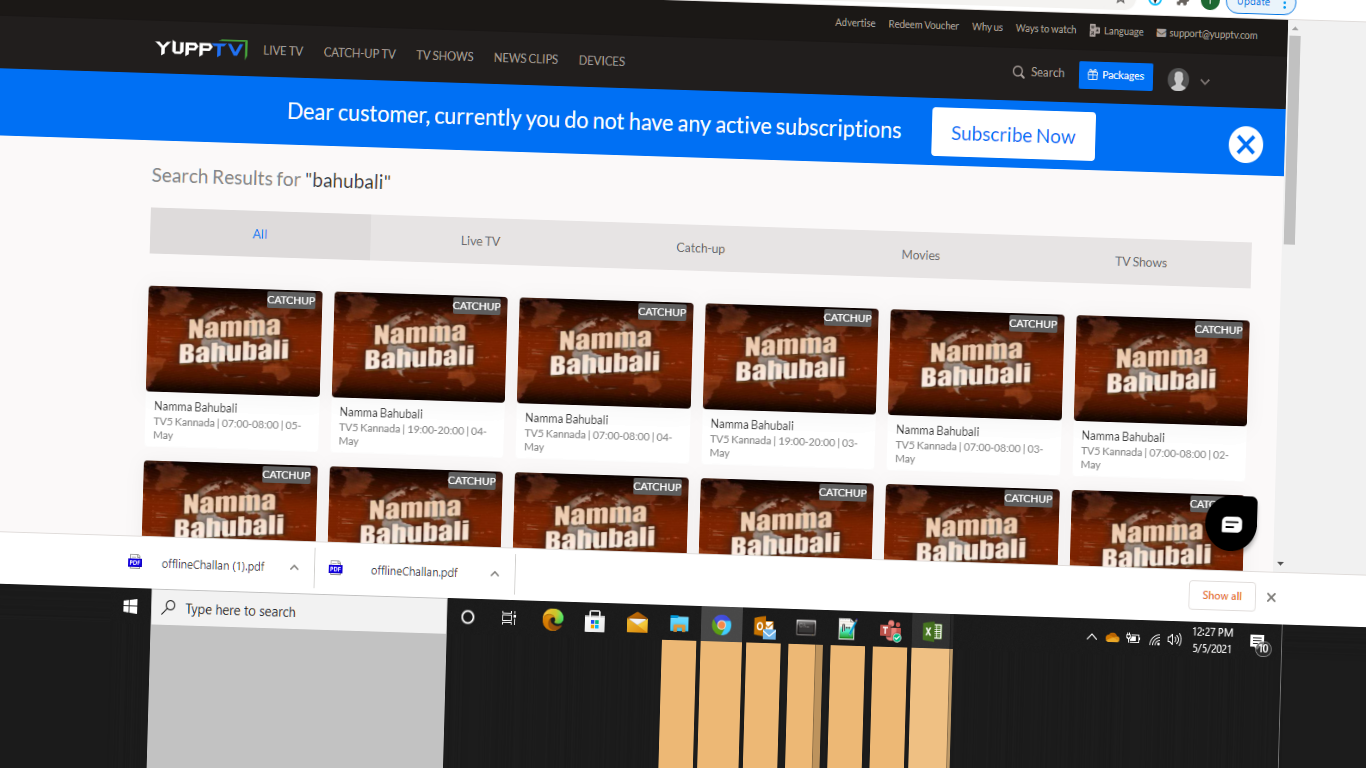profileicon: (1161, 46, 1216, 107)
resultsfound: (149, 160, 418, 216)
searchicon: (1007, 63, 1026, 79)
searchtextbox: (998, 60, 1072, 86)
